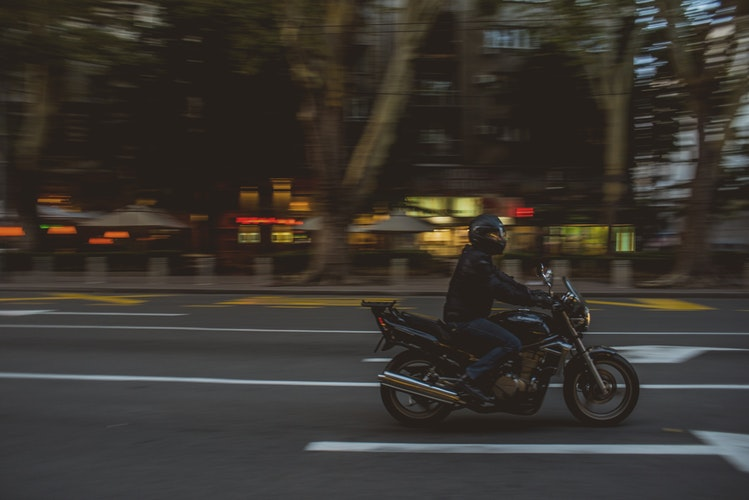helmet: (465, 211, 509, 250)
